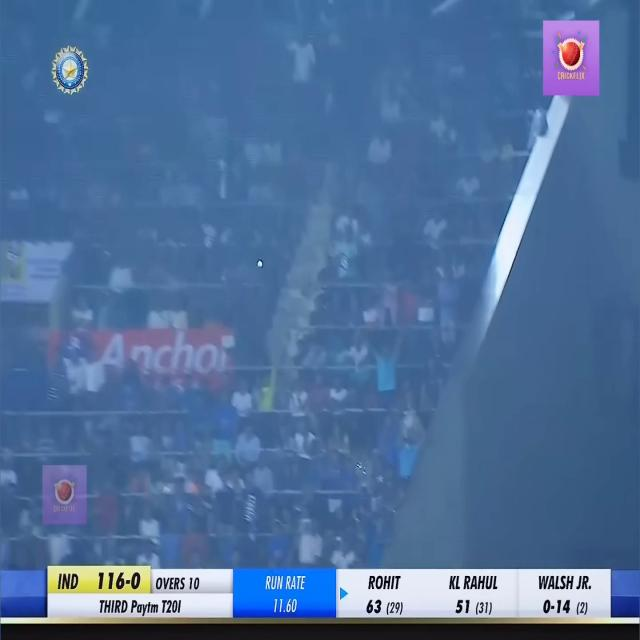fully_visible: (127, 596, 159, 620)
